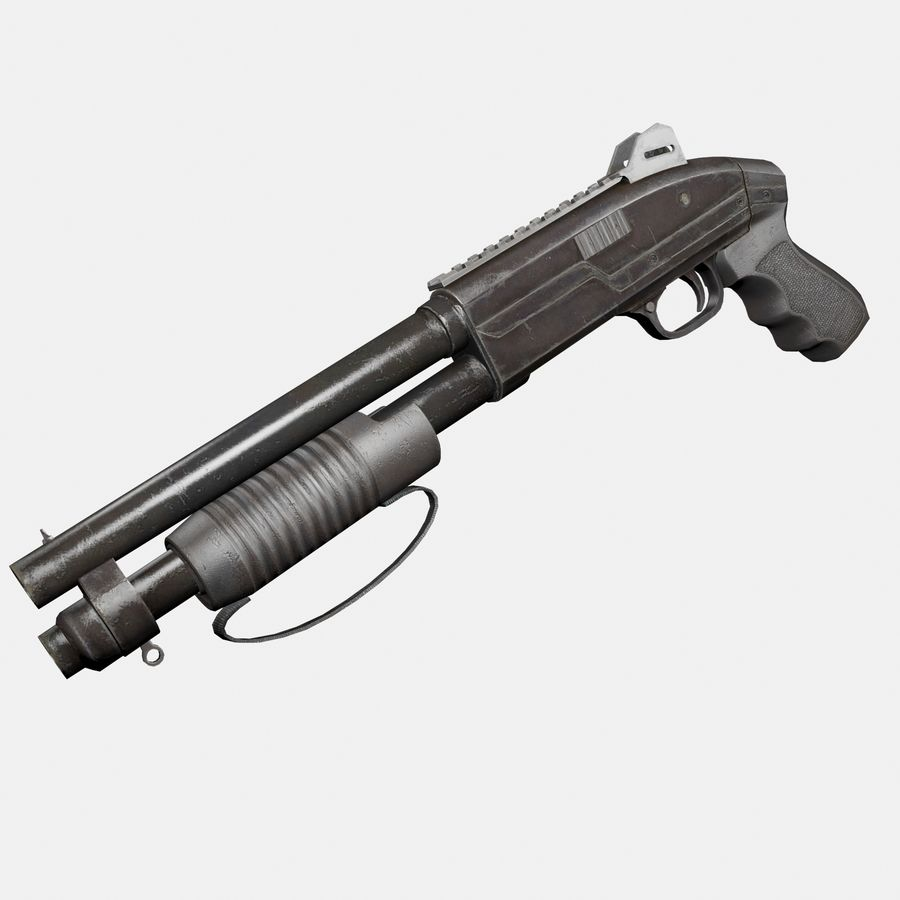weapon: (4, 123, 873, 683)
